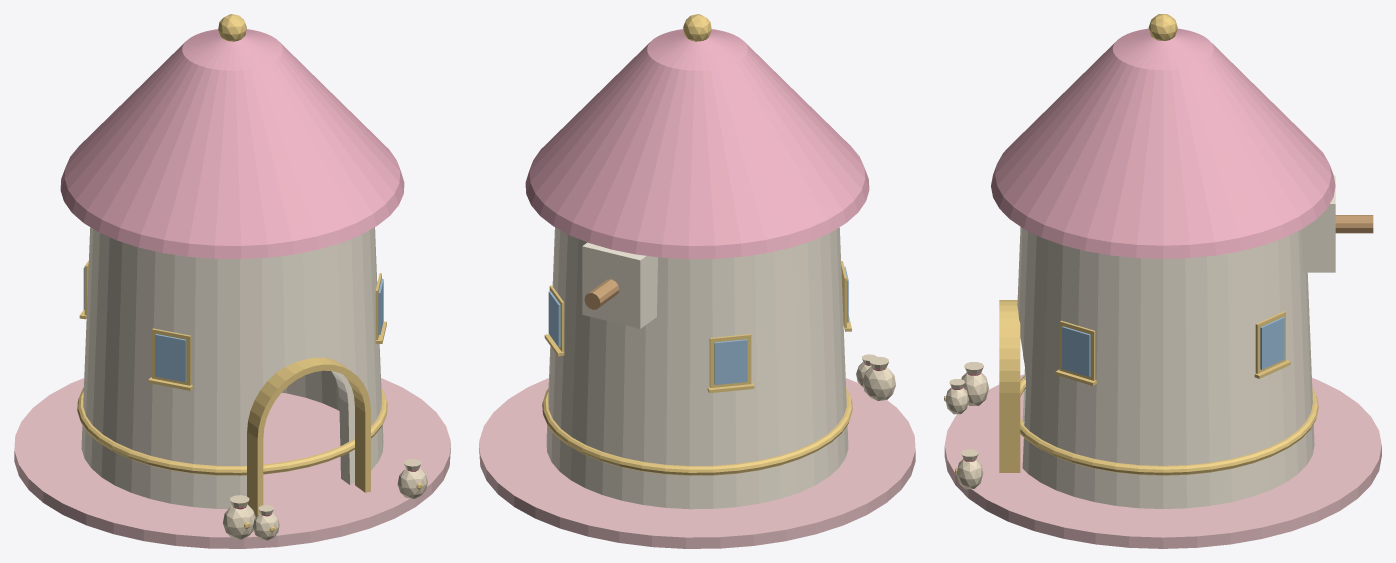
Rendered from HOB_Bld_FlourMill.fbx.
3 views of the same model, side by side, from view 1: azimuth 30°, elevation 25°; view 2: azimuth 150°, elevation 25°; view 3: azimuth 270°, elevation 25° (orthographic).
Visible parts, largest first — view 1: HOB_Bld_FlourMill; view 2: HOB_Bld_FlourMill; view 3: HOB_Bld_FlourMill.
Boxes of the visible parts, x1,y1,x2,y2 form: HOB_Bld_FlourMill: (14, 14, 450, 548); HOB_Bld_FlourMill: (479, 14, 915, 548); HOB_Bld_FlourMill: (944, 14, 1381, 548).
Size of the model in its own units: 1040 by 1160 by 1041.
